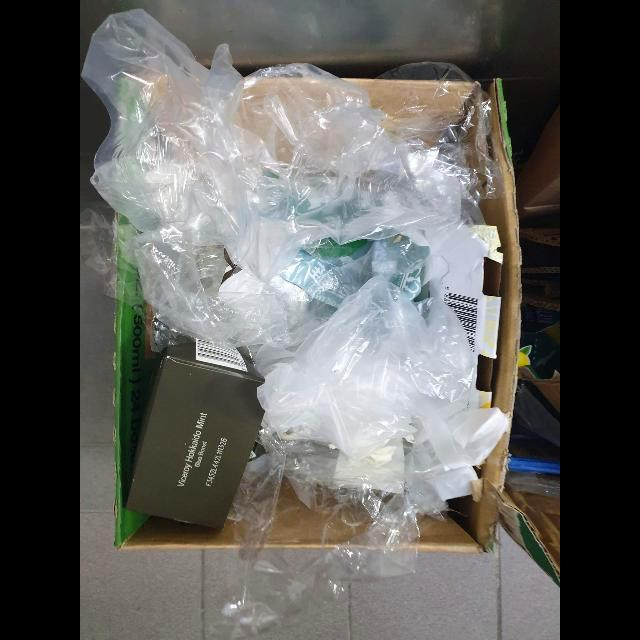cardboard: (126, 339, 265, 531)
plastic_bag: (81, 10, 482, 369), (256, 279, 508, 497), (214, 430, 421, 640)
